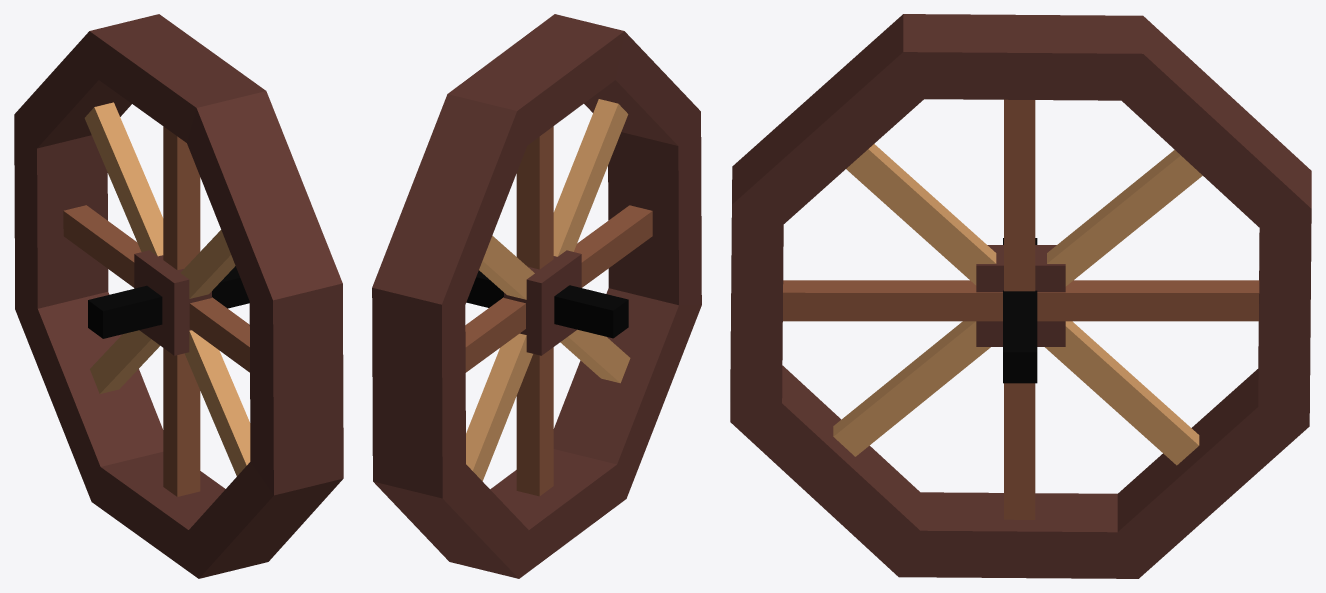
The model's file is cart_wheel_right.fbx.
The picture shows the model from 3 angles, left to right: view 1: azimuth 30°, elevation 25°; view 2: azimuth 150°, elevation 25°; view 3: azimuth 270°, elevation 25°; orthographic projection. The views are drawn at different scales.
Parts seen in each view (by area): view 1: right wheel.004; view 2: right wheel.004; view 3: right wheel.004.
Boxes of the visible parts, <box> form: right wheel.004: <box>14,14,343,578</box>; right wheel.004: <box>372,14,701,578</box>; right wheel.004: <box>730,14,1311,578</box>.
Size of the model in its own units: 57.02 by 122 by 122.
